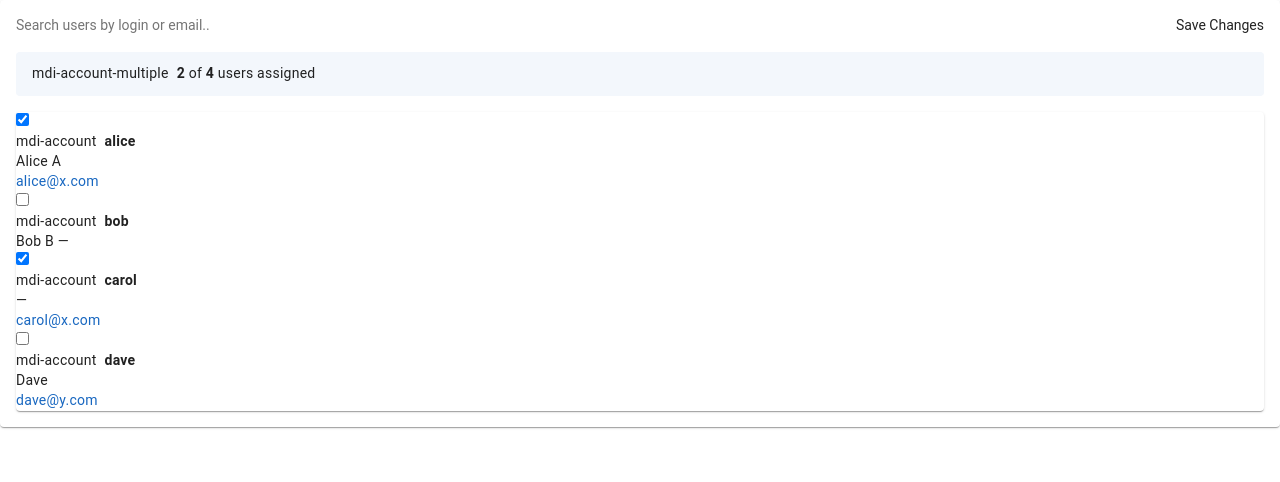
Scenario: RoleUsersTab interactions › shows an error when removeUserFromRole returns false
Click the 1st checkbox with class "stub-checkbox" at (22, 119), box [16, 113, 29, 126]
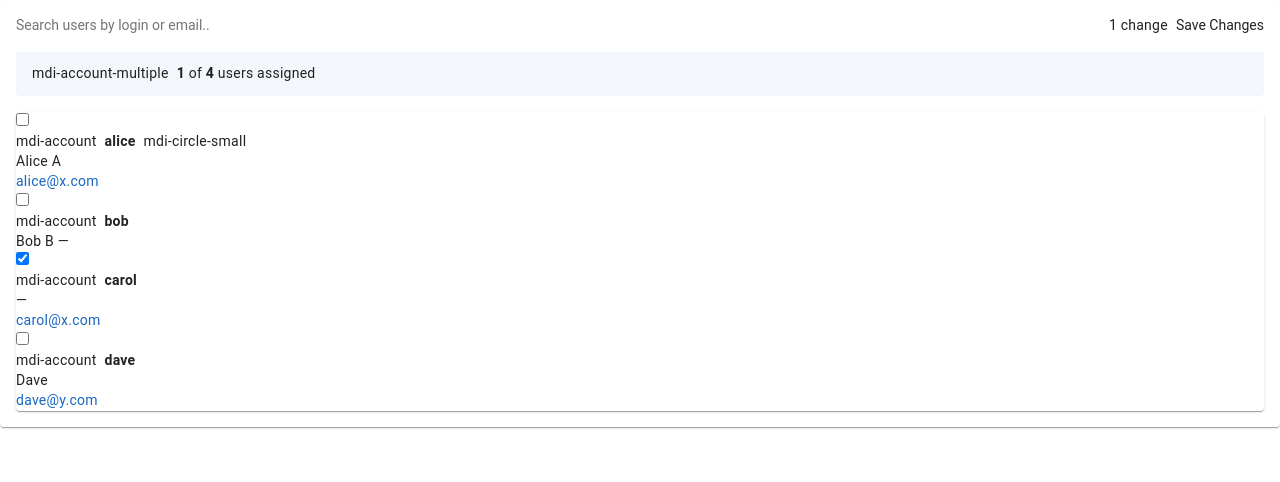
Click the button with class "stub-save-btn" at (1220, 26), box [1176, 16, 1264, 36]
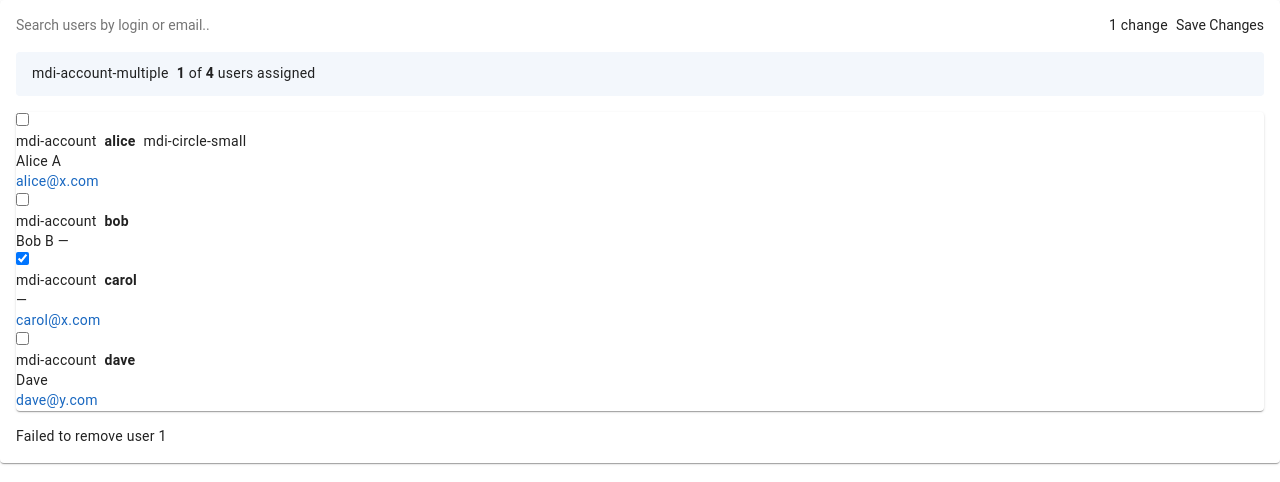
expect the text "Failed to remove user 1" is shown: met, box [16, 428, 167, 444]
